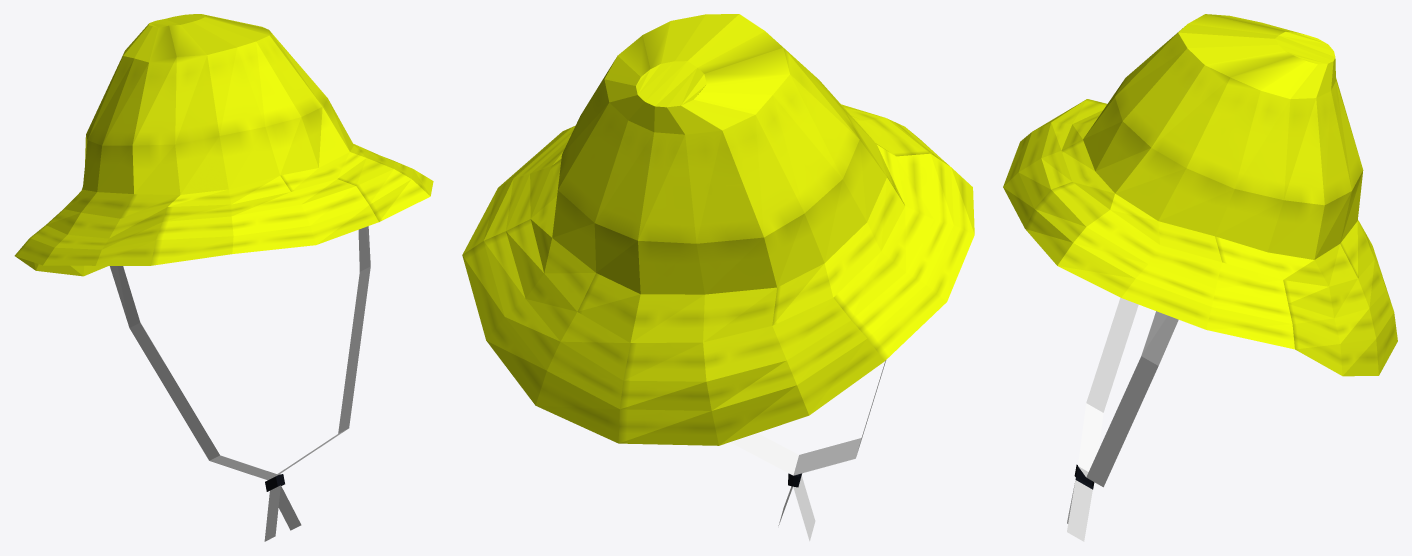
Rendered from Yellow Rain Hat.fbx.
The picture shows the model from 3 angles, left to right: view 1: azimuth 30°, elevation 25°; view 2: azimuth 150°, elevation 25°; view 3: azimuth 270°, elevation 25°; orthographic projection. The views are drawn at different scales.
Parts seen in each view (by area): view 1: Cube; view 2: Cube; view 3: Cube.
Part boxes in pixels (x1,y1,x2,y2): Cube: (14,14,433,541); Cube: (462,14,974,541); Cube: (1003,14,1397,541).
Bounding box in the file's own units: 39 × 46.64 × 32.81.
